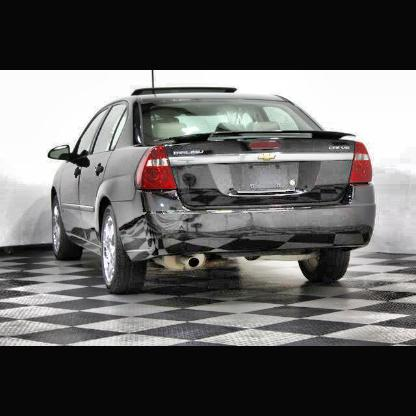Chevrolet Malibu Sedan 2007: (48, 70, 376, 296)
